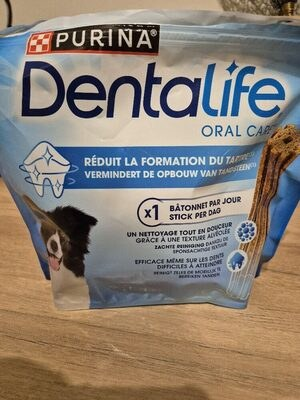Dentalife: (15, 20, 285, 380)
